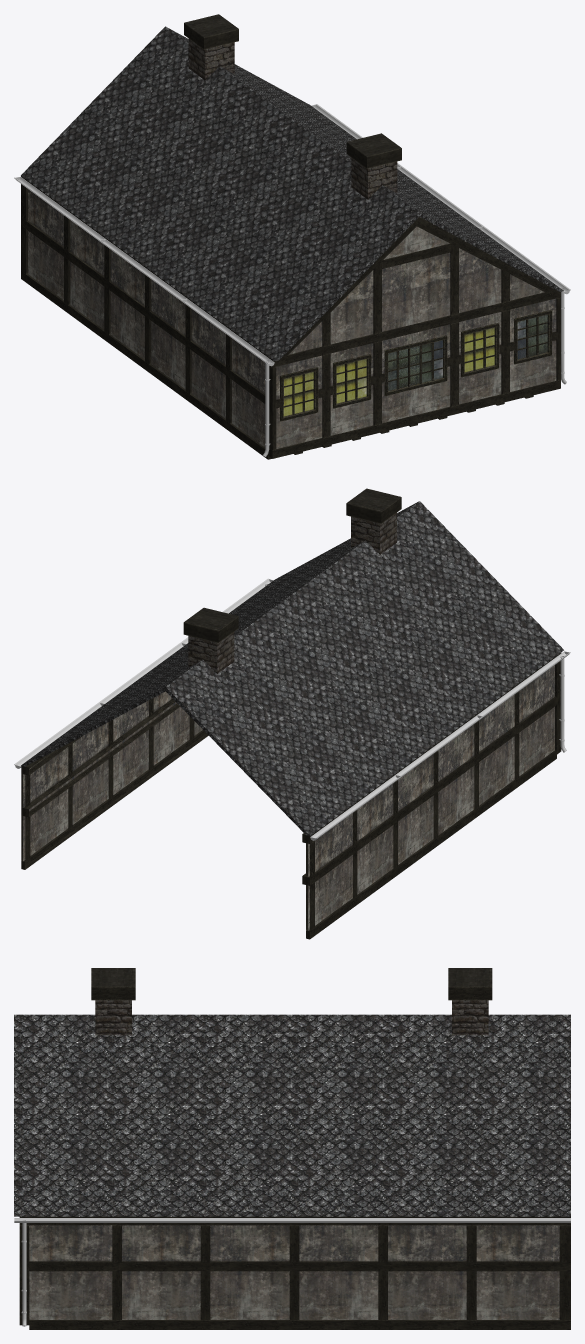
File: pubroof02_lit_01.DAE
3 renders of one model, top to bottom at view 1: azimuth 30°, elevation 25°; view 2: azimuth 150°, elevation 25°; view 3: azimuth 270°, elevation 25°, orthographic. The views are drawn at different scales.
Visible parts, largest first — view 1: Object118, Object120, Object117, Object121, Object135, Box050, Object119; view 2: Object118, Object120, Object117, Object121, Box050; view 3: Object118, Object120, Object117, Object121, Box050.
Boxes of the visible parts, left/top/right/bottom form: Object118: left=21, top=26, right=563, bottom=361; Object120: left=28, top=189, right=556, bottom=448; Object117: left=21, top=14, right=560, bottom=459; Object121: left=14, top=104, right=570, bottom=424; Object135: left=283, top=327, right=494, bottom=416; Box050: left=188, top=39, right=397, bottom=199; Object119: left=388, top=314, right=547, bottom=390; Object118: left=21, top=501, right=563, bottom=835; Object120: left=23, top=665, right=554, bottom=930; Object117: left=21, top=488, right=561, bottom=939; Object121: left=14, top=578, right=570, bottom=840; Box050: left=188, top=513, right=396, bottom=673; Object118: left=14, top=1014, right=570, bottom=1216; Object120: left=29, top=1225, right=559, bottom=1319; Object117: left=19, top=968, right=570, bottom=1329; Object121: left=14, top=1218, right=570, bottom=1290; Box050: left=95, top=1000, right=488, bottom=1037.
Bounding box in the file's own units: 13.02 × 10.3 × 18.88.
